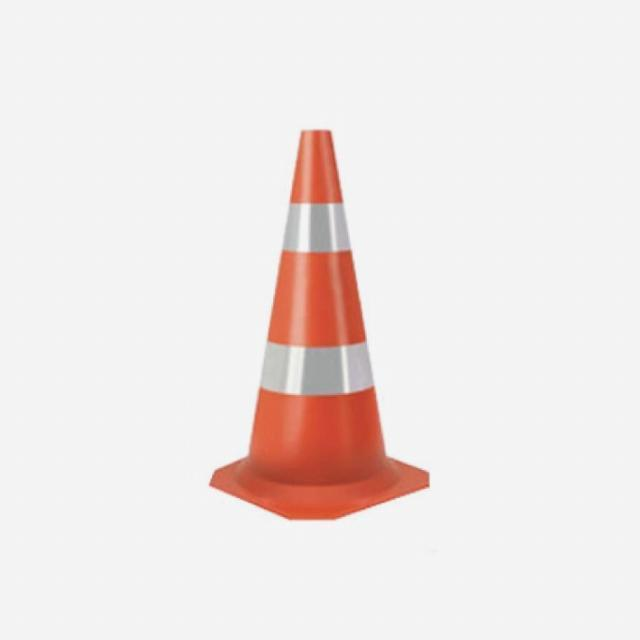traffic cone: (209, 129, 431, 522)
